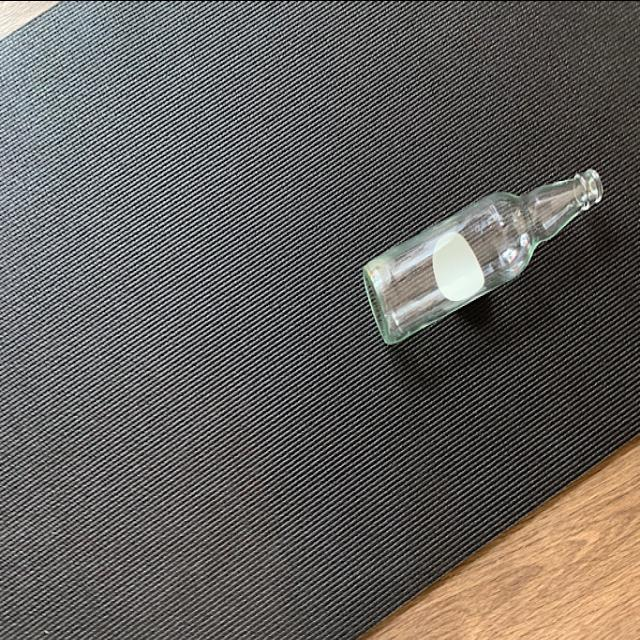litter: (360, 149, 620, 339)
